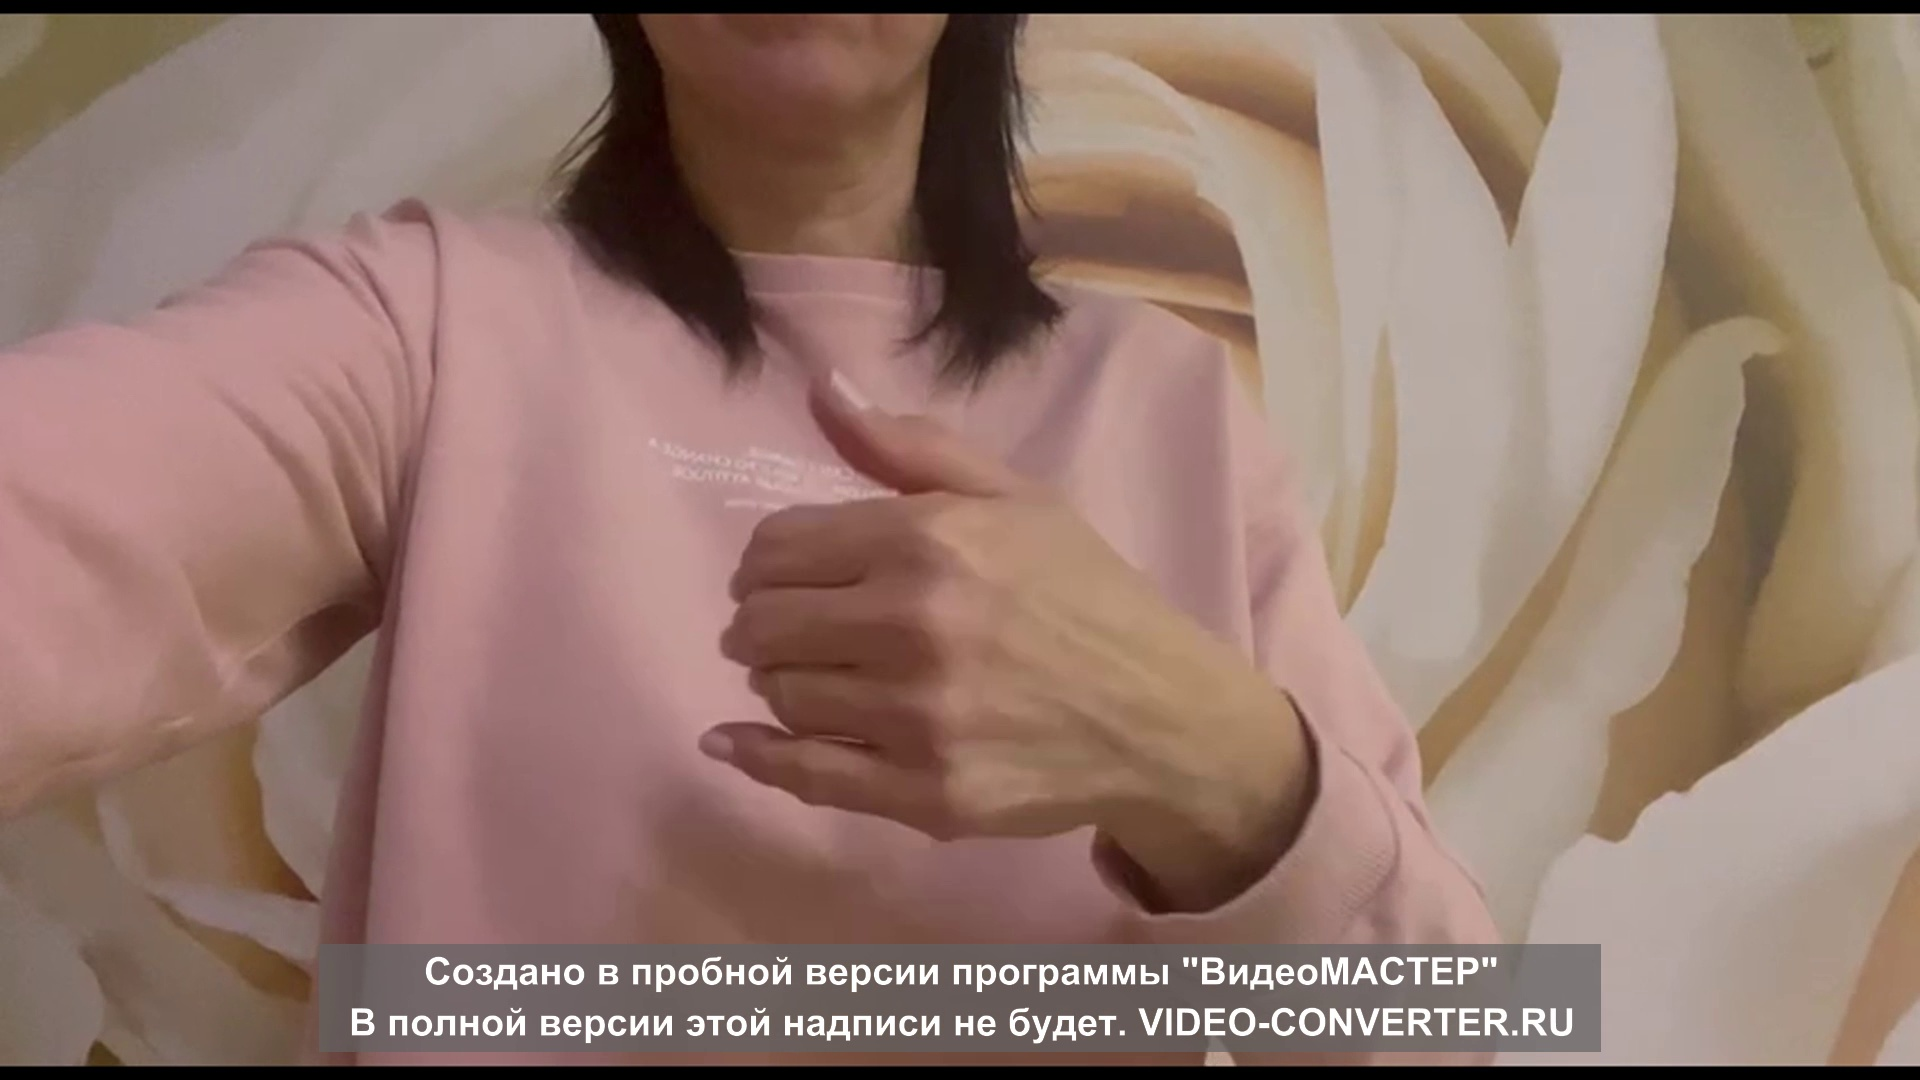Кисть: (698, 361, 1187, 839)
